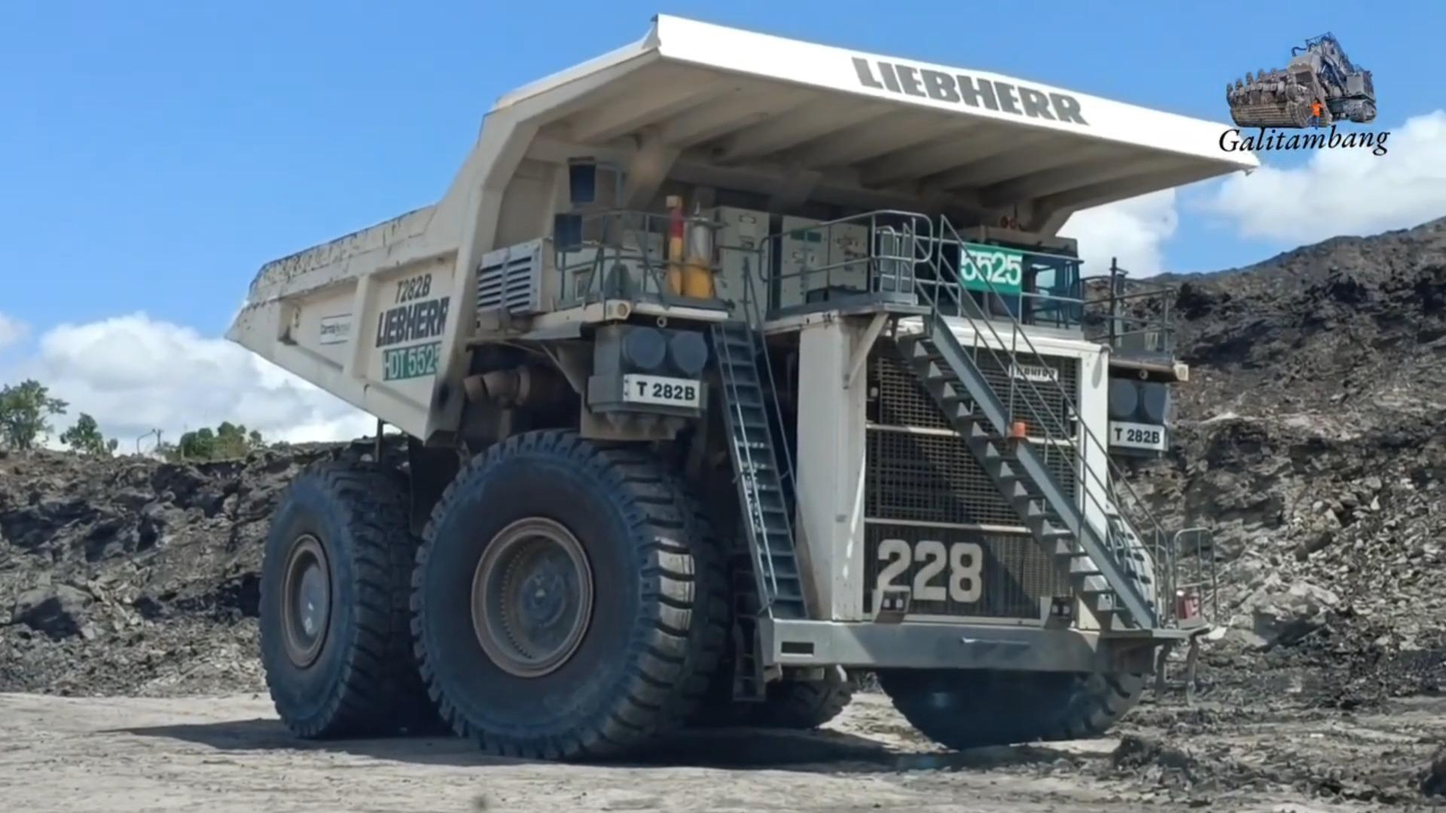HD-Truck: (227, 14, 1258, 759)
